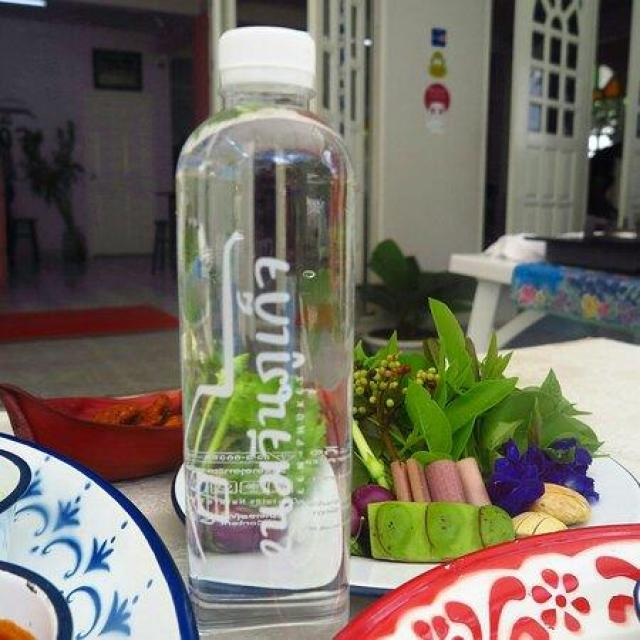bottle: (165, 17, 364, 640)
